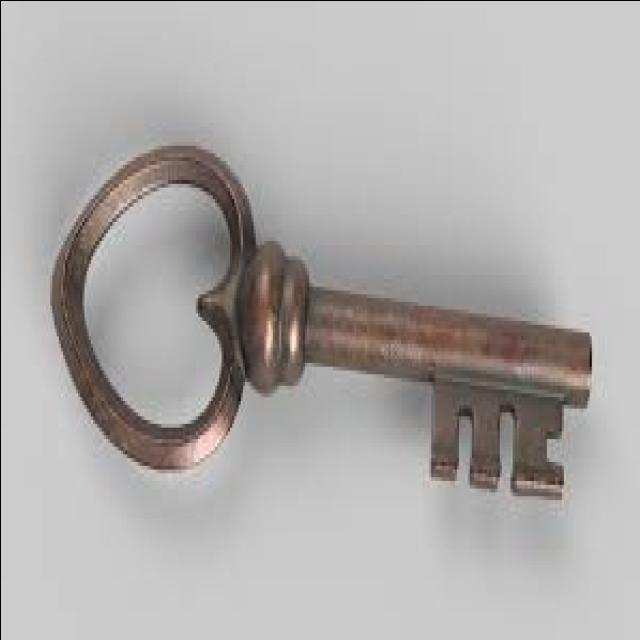key: (27, 110, 601, 554)
